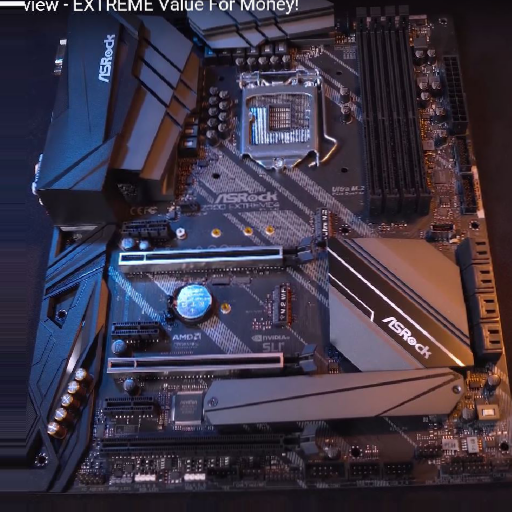CPU: (242, 80, 322, 170)
GPU: (101, 424, 319, 459), (116, 236, 316, 270), (106, 345, 318, 375)
MOTHERBOARD: (12, 8, 512, 499)
RAM: (351, 6, 431, 221)
SSD: (264, 284, 290, 327), (311, 208, 334, 240)
